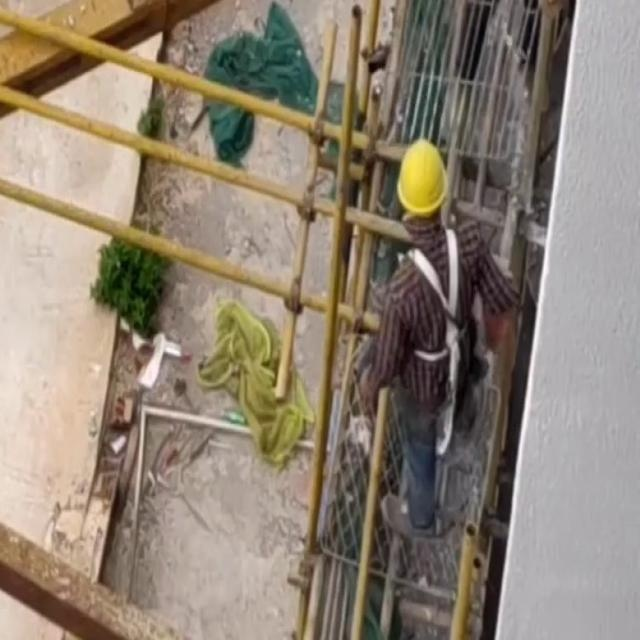Arnes_seguridad: (397, 220, 472, 366)
